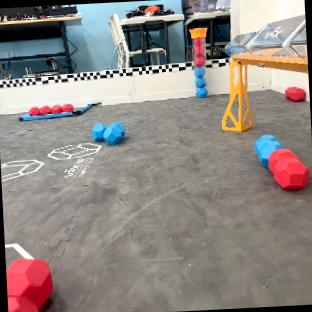Goal: (221, 15, 307, 132)
Parking - B: (19, 102, 100, 120)
V5_BLUE: (91, 122, 124, 143), (194, 66, 206, 97)
V5_RED: (6, 258, 52, 312), (269, 148, 308, 189), (190, 26, 206, 96), (29, 103, 74, 115), (193, 34, 205, 65), (285, 86, 304, 100)
